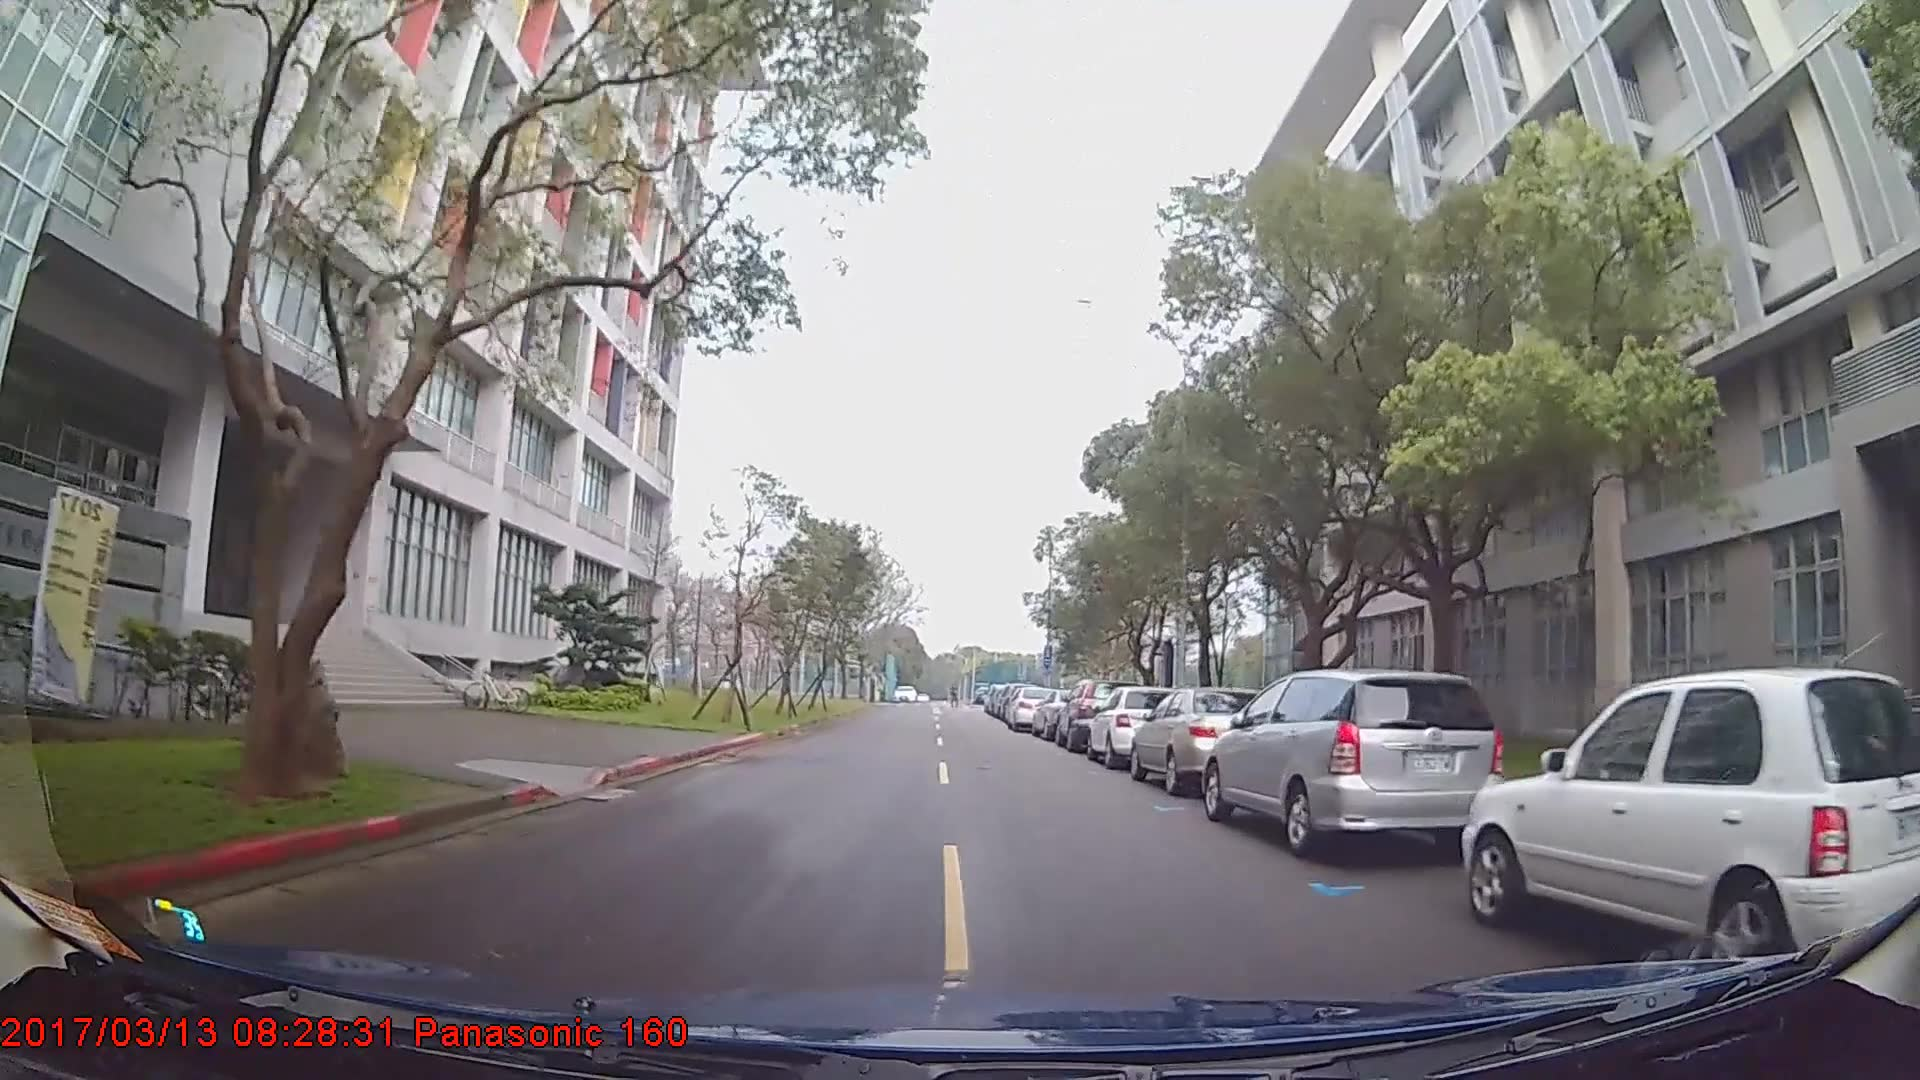vehicle: (1462, 665, 1920, 971), (1200, 666, 1503, 855), (1127, 684, 1283, 793), (1087, 683, 1179, 766), (1055, 679, 1134, 752), (1002, 682, 1060, 732)
